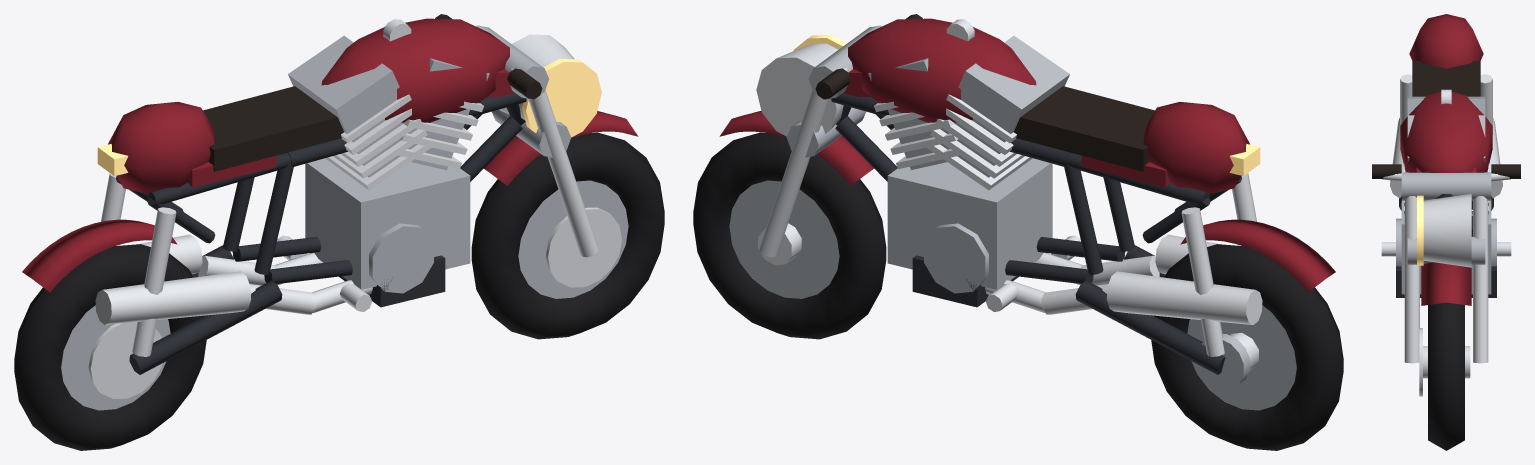
The model's file is moto.glb.
3 renders of one model, left to right at view 1: azimuth 30°, elevation 25°; view 2: azimuth 150°, elevation 25°; view 3: azimuth 270°, elevation 25°, orthographic. The views are drawn at different scales.
Visible parts, largest first — view 1: wheel_front_tire, wheel_rear_tire, crankcase, fuel_tank, seat, tail_cowl, muffler_r, head_front, wheel_front_rim, fender_rear, wheel_front_disc, gearbox (+33 smaller); view 2: wheel_front_tire, wheel_rear_tire, crankcase, fuel_tank, wheel_front_rim, seat, tail_cowl, muffler_l, wheel_rear_rim, head_front, headlight_shell, fender_rear (+32 smaller); view 3: fuel_tank, wheel_front_tire, headlight_shell, tail_cowl, fork_l, triple_clamp_top, fork_r, seat, fender_front, crankcase, triple_clamp_low, gearbox (+15 smaller).
Part boxes in pixels (x1,y1,x2,y2): wheel_front_tire: (471, 132, 664, 339); wheel_rear_tire: (14, 244, 206, 450); crankcase: (305, 158, 470, 289); fuel_tank: (321, 18, 509, 122); seat: (203, 86, 343, 171); tail_cowl: (108, 102, 214, 193); muffler_r: (95, 271, 251, 324); head_front: (288, 35, 399, 133); wheel_front_rim: (518, 180, 628, 298); fender_rear: (22, 219, 177, 292); wheel_front_disc: (546, 207, 621, 287); gearbox: (369, 223, 433, 293); wheel_front_tire: (693, 132, 886, 339); wheel_rear_tire: (1151, 244, 1343, 450); crankcase: (887, 158, 1052, 289); fuel_tank: (848, 18, 1036, 122); wheel_front_rim: (729, 180, 839, 298); seat: (1014, 86, 1154, 171); tail_cowl: (1143, 102, 1249, 193); muffler_l: (1106, 271, 1262, 324); wheel_rear_rim: (1187, 305, 1296, 410); head_front: (958, 35, 1069, 133); headlight_shell: (756, 43, 843, 136); fender_rear: (1180, 219, 1335, 292); fuel_tank: (1400, 92, 1492, 172); wheel_front_tire: (1428, 302, 1464, 450); headlight_shell: (1423, 193, 1471, 267); tail_cowl: (1409, 14, 1483, 68); fork_l: (1473, 196, 1488, 363); triple_clamp_top: (1401, 172, 1491, 200); fork_r: (1404, 196, 1419, 363); seat: (1412, 61, 1480, 96); fender_front: (1421, 262, 1471, 305); crankcase: (1401, 200, 1491, 294); triple_clamp_low: (1407, 236, 1485, 264); gearbox: (1396, 218, 1496, 266).
Size of the model in its own units: 2.02 by 1.06 by 0.5.
